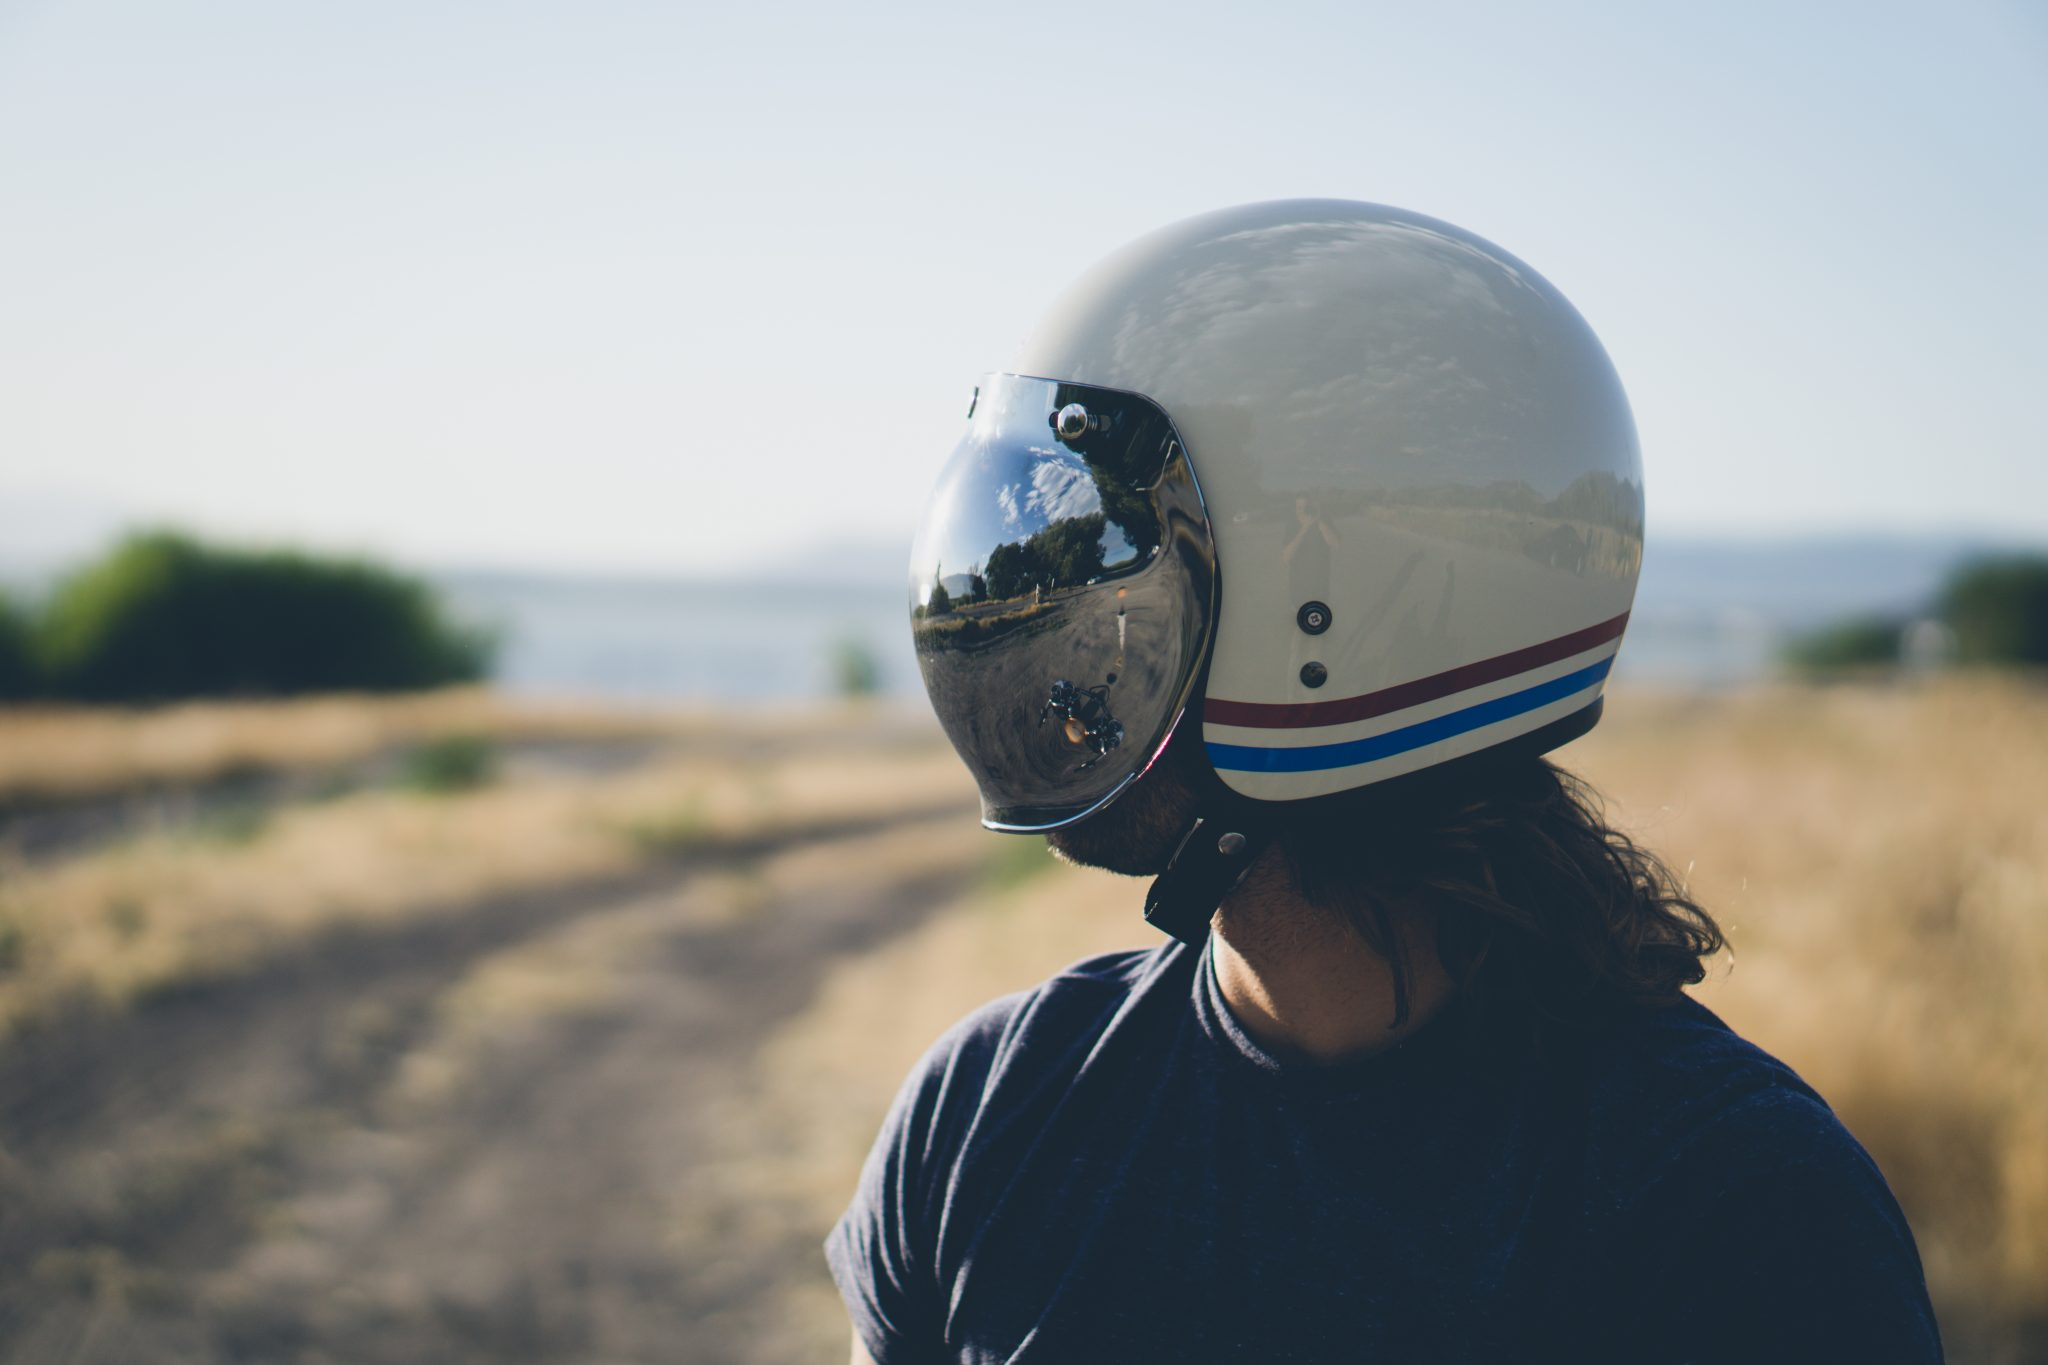with_helmet: (885, 180, 1654, 877)
